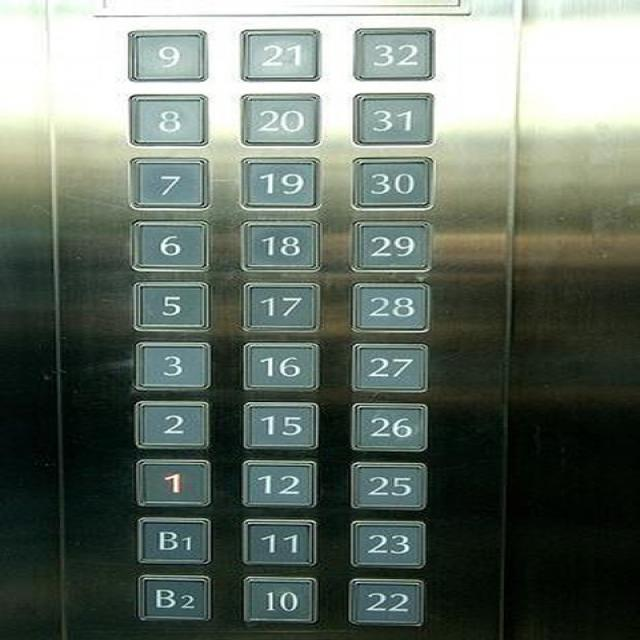1: (135, 458, 212, 506)
10: (239, 576, 317, 623)
11: (238, 518, 318, 566)
12: (239, 460, 317, 507)
15: (238, 400, 318, 448)
16: (240, 340, 319, 389)
17: (239, 280, 320, 332)
18: (240, 217, 320, 272)
19: (237, 156, 320, 210)
2: (131, 398, 212, 448)
20: (238, 92, 322, 147)
21: (239, 28, 320, 81)
22: (347, 577, 422, 626)
23: (348, 518, 425, 568)
25: (348, 461, 427, 509)
26: (349, 402, 427, 451)
27: (348, 341, 427, 393)
28: (349, 282, 431, 332)
29: (349, 218, 432, 271)
3: (133, 341, 212, 389)
30: (348, 154, 435, 210)
31: (349, 91, 435, 146)
32: (352, 26, 435, 80)
5: (129, 279, 211, 330)
6: (127, 219, 208, 272)
7: (126, 155, 210, 210)
8: (125, 93, 208, 147)
9: (125, 28, 207, 82)
B1: (135, 514, 212, 564)
B2: (137, 573, 212, 623)
